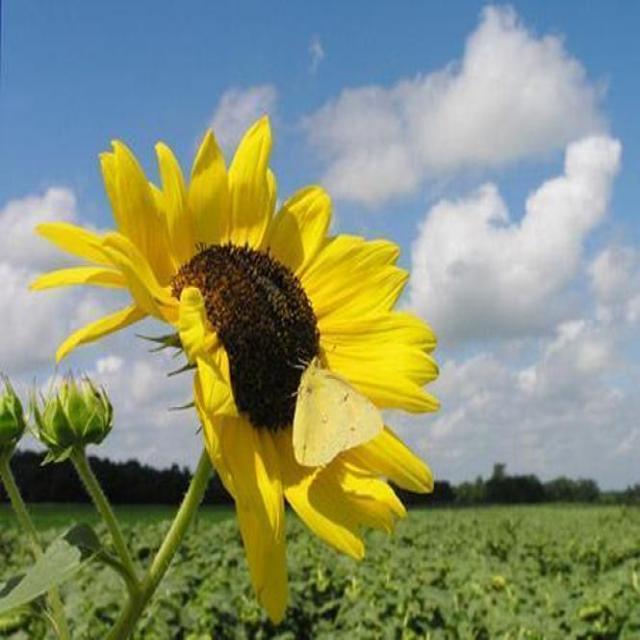sunflower: (30, 108, 447, 630)
